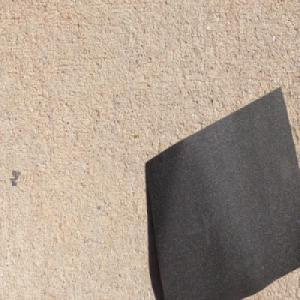PaintChip: (143, 83, 300, 300)
